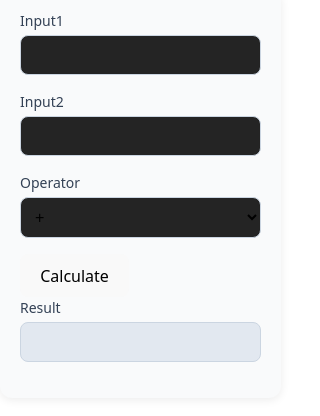
Test: Calculator Component › calculates addition on blur
Step 1. Type "8" into the field labelled "Input1" → (140, 55), box [20,35,261,75]
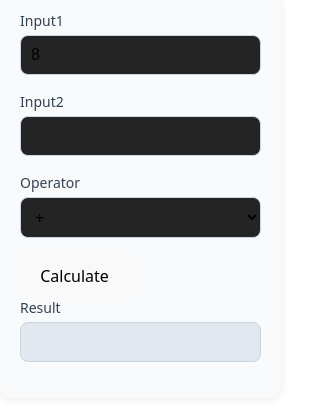
Step 2. Type "2" into the field labelled "Input2" → (140, 136), box [20,116,261,156]
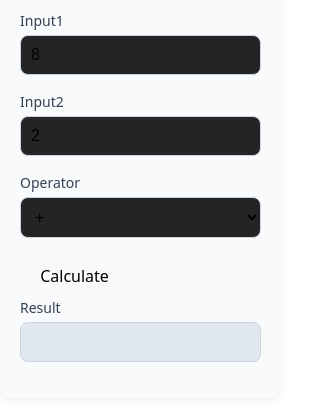
Step 3. Select "+" in the dropdown labelled "Operator" → (140, 217), box [20,197,261,238]
Step 4. Leave the field labelled "Input2", box [20,116,261,156]
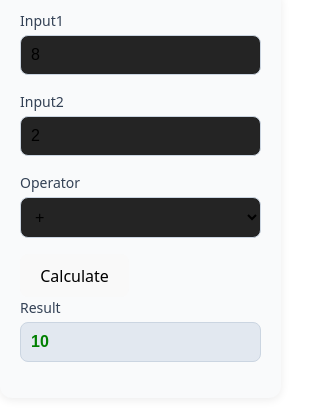
expect the field labelled "Result" holds "10": met, box [20,322,261,362]
